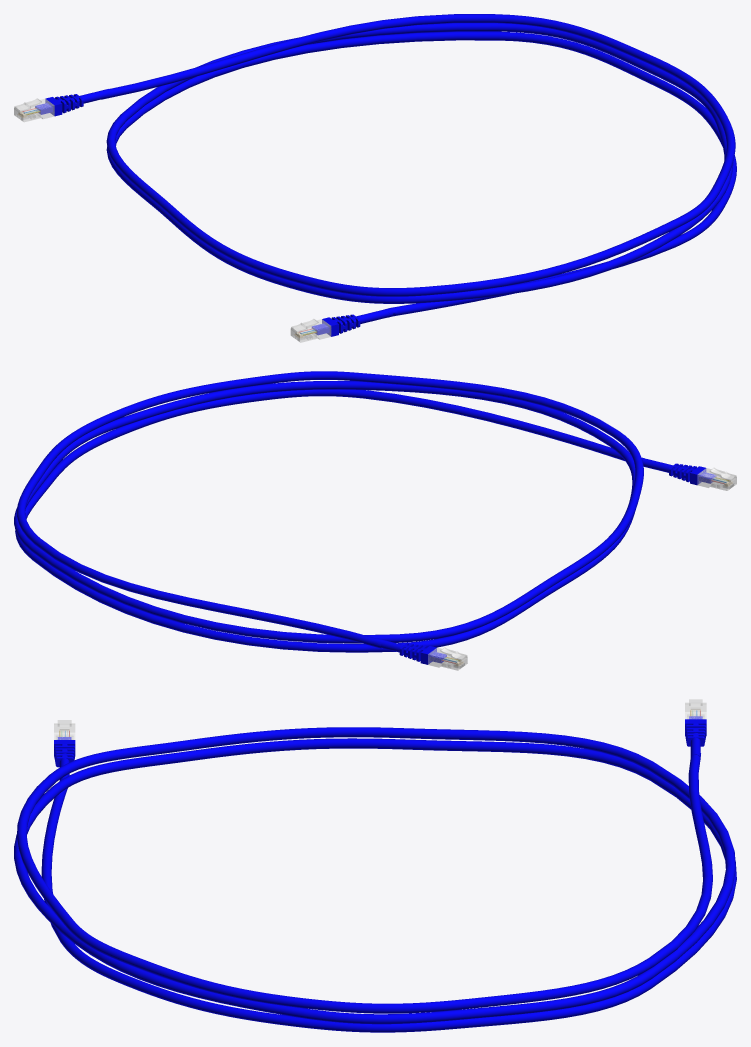
The model's file is Short LAN Cable.fbx.
3 renders of one model, top to bottom at view 1: azimuth 30°, elevation 25°; view 2: azimuth 150°, elevation 25°; view 3: azimuth 270°, elevation 25°, orthographic. The views are drawn at different scales.
Parts seen in each view (by area): view 1: BézierCurve, imagetostl_mesh0, imagetostl_mesh0.001, imagetostl_mesh1, imagetostl_mesh1.001; view 2: BézierCurve, imagetostl_mesh0, imagetostl_mesh0.001, imagetostl_mesh1, imagetostl_mesh1.001; view 3: BézierCurve, imagetostl_mesh0.001, imagetostl_mesh0.
Boxes of the visible parts, x1,y1,x2,y2 form: BézierCurve: [101, 14, 736, 317]; imagetostl_mesh0: [312, 309, 388, 336]; imagetostl_mesh0.001: [35, 89, 111, 116]; imagetostl_mesh1: [290, 318, 331, 342]; imagetostl_mesh1.001: [14, 98, 54, 122]; BézierCurve: [14, 371, 643, 652]; imagetostl_mesh0: [642, 458, 716, 485]; imagetostl_mesh0.001: [372, 638, 446, 664]; imagetostl_mesh1: [697, 467, 736, 490]; imagetostl_mesh1.001: [428, 647, 467, 670]; BézierCurve: [14, 727, 736, 1032]; imagetostl_mesh0.001: [685, 716, 706, 759]; imagetostl_mesh0: [54, 737, 75, 775].
Size of the model in its own units: 36528 by 2166 by 36776.
